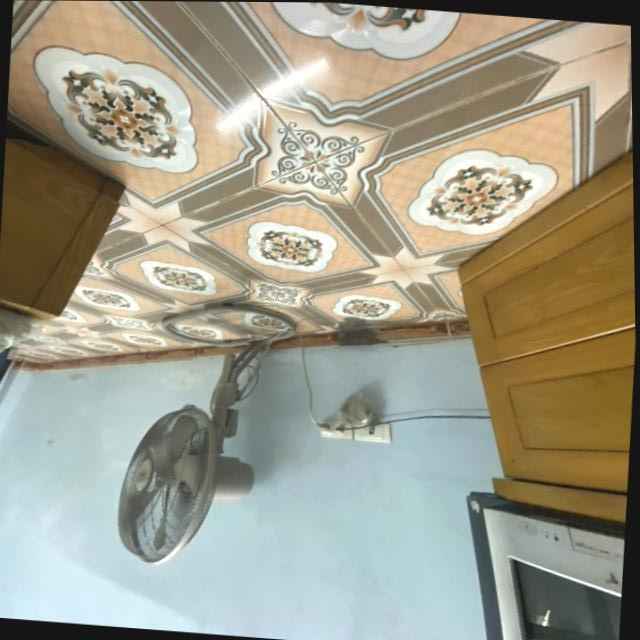outlet: (353, 420, 392, 444), (317, 419, 353, 441)
